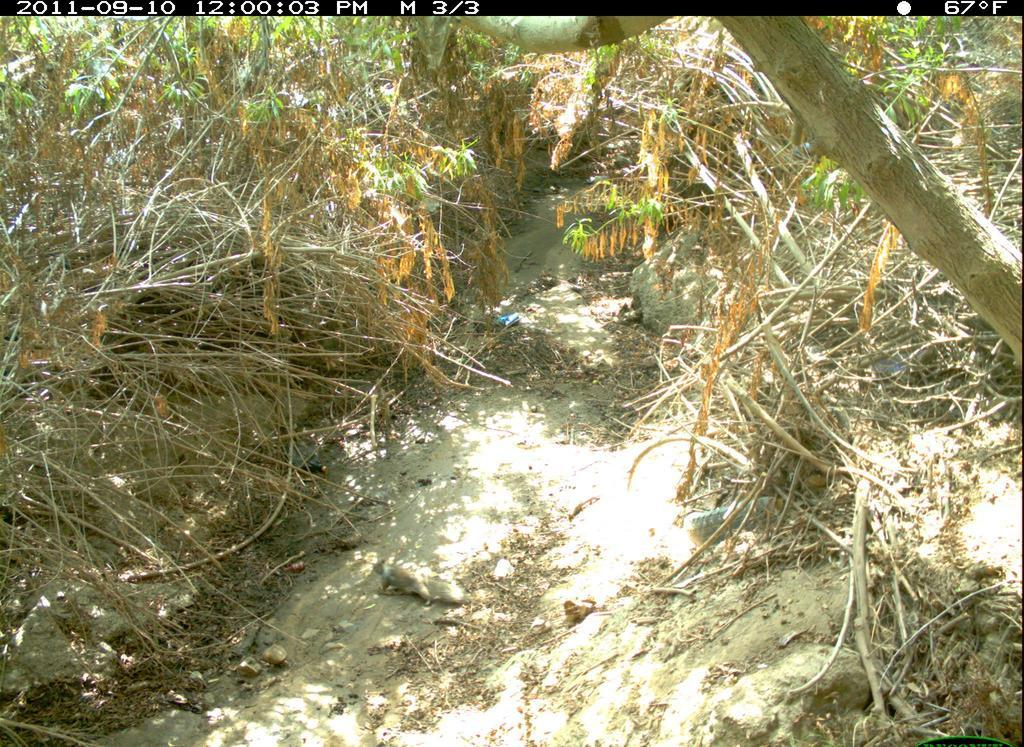squirrel: (370, 555, 476, 610)
